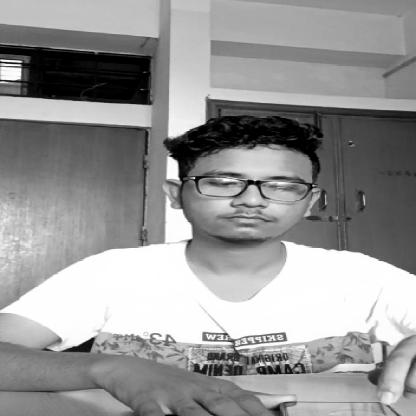Normal: (167, 116, 326, 242)
